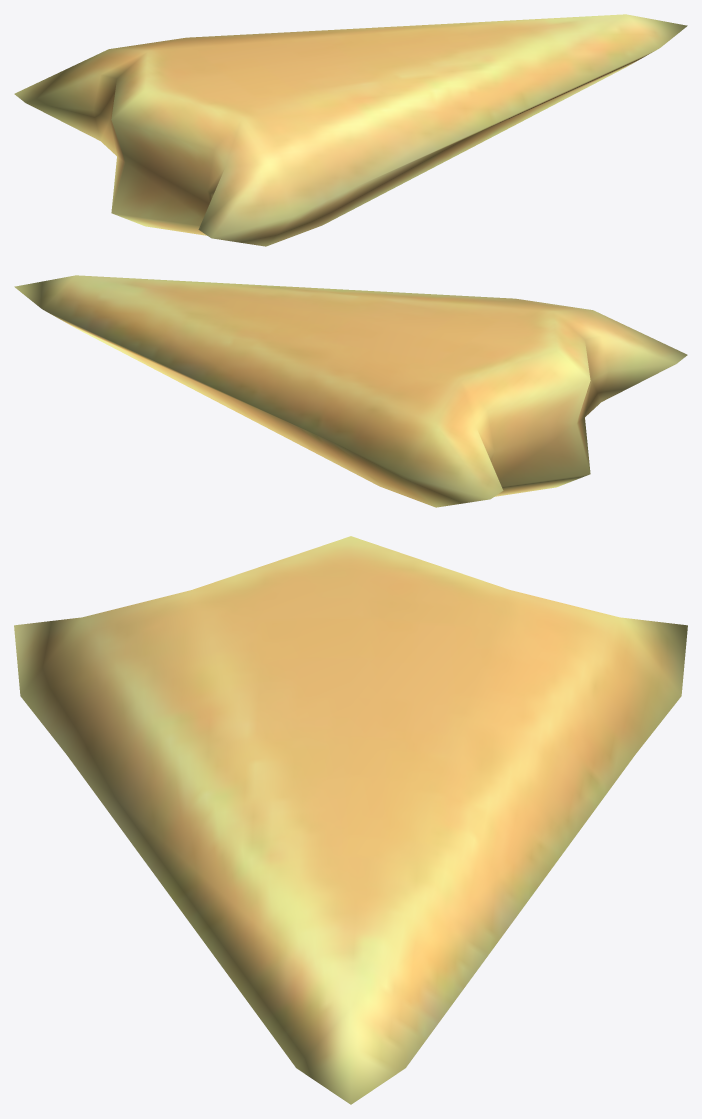
3 views of the same model, one above another, from view 1: azimuth 30°, elevation 25°; view 2: azimuth 150°, elevation 25°; view 3: azimuth 270°, elevation 25° (orthographic). The views are drawn at different scales.
Parts seen in each view (by area): view 1: SM_CrossbowBolt_Bronze_Gem_01_LOD0; view 2: SM_CrossbowBolt_Bronze_Gem_01_LOD0; view 3: SM_CrossbowBolt_Bronze_Gem_01_LOD0.
Part boxes in pixels (x1,y1,x2,y2): SM_CrossbowBolt_Bronze_Gem_01_LOD0: (14, 14, 687, 246); SM_CrossbowBolt_Bronze_Gem_01_LOD0: (14, 275, 687, 507); SM_CrossbowBolt_Bronze_Gem_01_LOD0: (14, 536, 687, 1104).
Size of the model in its own units: 0.0625 by 0.0141 by 0.037.
1 material, 1 textured.
